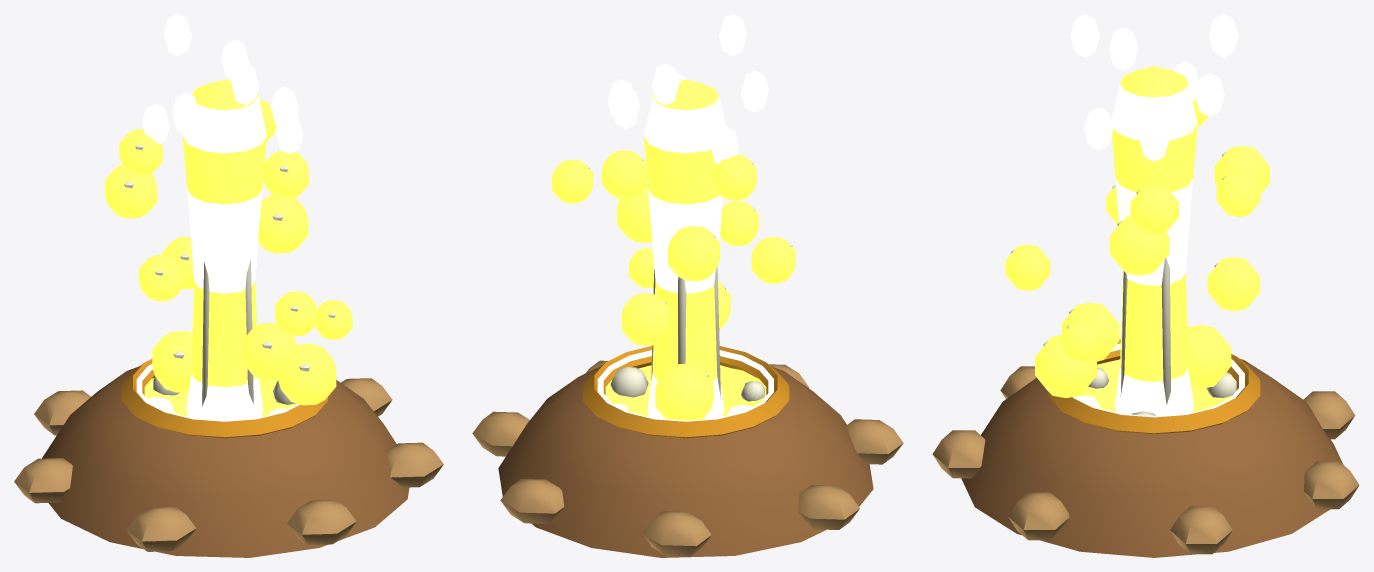
File: H36_GoldGasGeyser.fbx
The picture shows the model from 3 angles, left to right: view 1: azimuth 30°, elevation 25°; view 2: azimuth 150°, elevation 25°; view 3: azimuth 270°, elevation 25°; orthographic projection. The views are drawn at different scales.
Parts seen in each view (by area): view 1: Static, Jet, Bubble_07, Bubble_01, Bubble_02, Bubble_08, Bubble_00, Bubble_03, Bubble_06, Bubble_11, Bubble_05, Bubble_09 (+1 smaller); view 2: Static, Jet, Bubble_00, Bubble_08, Bubble_04, Bubble_03, Bubble_06, Bubble_05, Bubble_10, Bubble_01, Bubble_11, Bubble_09; view 3: Static, Jet, Bubble_07, Bubble_01, Bubble_00, Bubble_04, Bubble_03, Bubble_11, Bubble_10, Bubble_08, Bubble_02, Bubble_09.
Part boxes in pixels (left/top/right/bottom): Static: left=14, top=359, right=443, bottom=557; Jet: left=142, top=14, right=303, bottom=420; Bubble_07: left=278, top=344, right=336, bottom=405; Bubble_01: left=258, top=195, right=308, bottom=253; Bubble_02: left=242, top=323, right=296, bottom=380; Bubble_08: left=105, top=164, right=157, bottom=218; Bubble_00: left=152, top=331, right=192, bottom=392; Bubble_03: left=263, top=150, right=308, bottom=197; Bubble_06: left=139, top=254, right=183, bottom=301; Bubble_11: left=275, top=291, right=317, bottom=336; Bubble_05: left=119, top=129, right=162, bottom=175; Bubble_09: left=315, top=300, right=352, bottom=339; Static: left=472, top=346, right=903, bottom=557; Jet: left=607, top=14, right=768, bottom=419; Bubble_00: left=655, top=364, right=713, bottom=420; Bubble_08: left=668, top=226, right=719, bottom=281; Bubble_04: left=621, top=293, right=670, bottom=345; Bubble_03: left=601, top=150, right=647, bottom=198; Bubble_06: left=751, top=237, right=795, bottom=283; Bubble_05: left=713, top=155, right=756, bottom=200; Bubble_10: left=552, top=159, right=593, bottom=203; Bubble_01: left=617, top=184, right=652, bottom=242; Bubble_11: left=720, top=201, right=758, bottom=245; Bubble_09: left=629, top=248, right=654, bottom=287; Static: left=932, top=339, right=1359, bottom=557; Jet: left=1070, top=14, right=1238, bottom=415; Bubble_07: left=1035, top=335, right=1096, bottom=397; Bubble_01: left=1109, top=216, right=1169, bottom=275; Bubble_00: left=1187, top=325, right=1231, bottom=388; Bubble_04: left=1207, top=257, right=1259, bottom=311; Bubble_03: left=1130, top=184, right=1178, bottom=234; Bubble_11: left=1005, top=244, right=1050, bottom=290; Bubble_10: left=1216, top=171, right=1260, bottom=216; Bubble_08: left=1214, top=146, right=1269, bottom=193; Bubble_02: left=1061, top=302, right=1119, bottom=361; Bubble_09: left=1061, top=321, right=1101, bottom=361.
Bounding box in the file's own units: 5.84 × 6.72 × 5.71.
